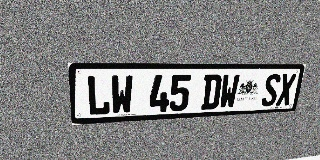4: (149, 75, 171, 113)
5: (169, 75, 191, 112)
D: (201, 74, 222, 110)
L: (86, 75, 110, 116)
S: (260, 74, 282, 107)
W: (111, 75, 133, 115), (218, 74, 240, 109)
X: (276, 74, 297, 106)
